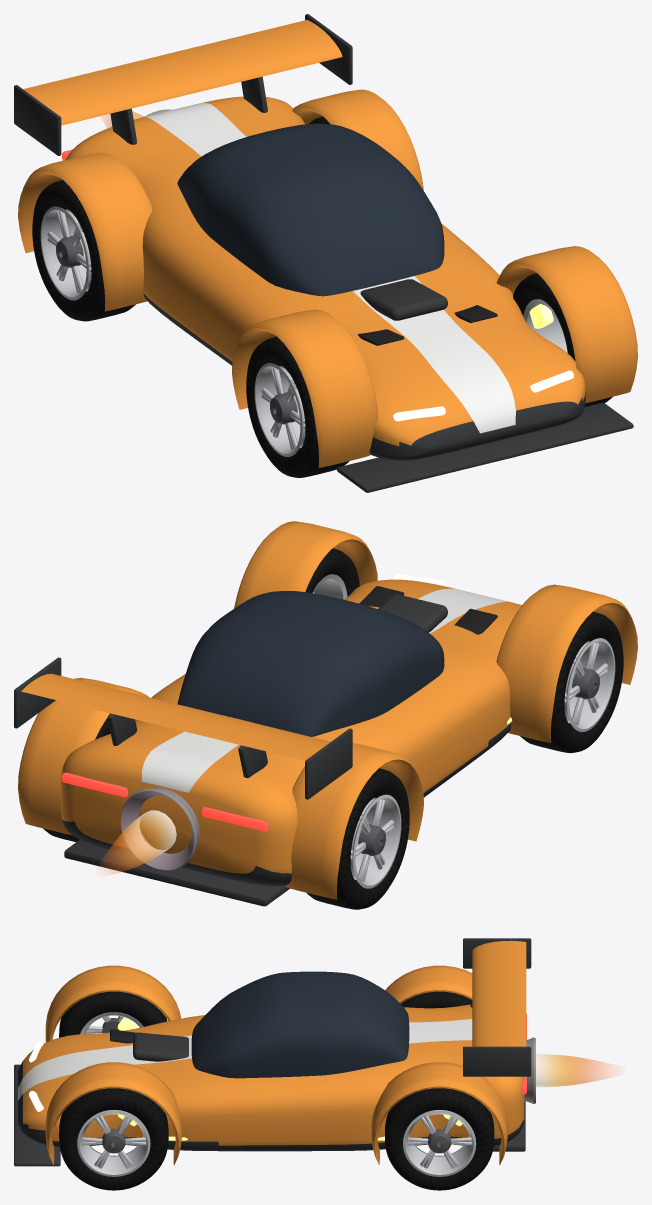
The model's file is rocket-car.glb.
3 views of the same model, one above another, from view 1: azimuth 30°, elevation 25°; view 2: azimuth 150°, elevation 25°; view 3: azimuth 270°, elevation 25° (orthographic). The views are drawn at different scales.
Parts seen in each view (by area): view 1: chassis, wheel_rear_right, wheel_front_right, wheel_front_left; view 2: chassis, wheel_rear_right, wheel_front_right, booster_flame, booster_nozzle, wheel_front_left; view 3: chassis, wheel_front_left, wheel_rear_left, wheel_front_right, booster_flame, wheel_rear_right, booster_nozzle.
Boxes of the visible parts, bbox=[...] form: chassis: bbox=[14, 14, 637, 492]; wheel_rear_right: bbox=[32, 180, 135, 321]; wheel_front_right: bbox=[246, 336, 349, 477]; wheel_front_left: bbox=[513, 273, 612, 406]; chassis: bbox=[14, 521, 637, 906]; wheel_rear_right: bbox=[306, 768, 409, 909]; wheel_front_right: bbox=[520, 611, 623, 753]; booster_flame: bbox=[100, 810, 176, 874]; booster_nozzle: bbox=[121, 788, 199, 870]; wheel_front_left: bbox=[305, 548, 359, 599]; chassis: bbox=[14, 938, 531, 1166]; wheel_front_left: bbox=[59, 1088, 168, 1190]; wheel_rear_left: bbox=[385, 1088, 494, 1190]; wheel_front_right: bbox=[59, 991, 167, 1037]; booster_flame: bbox=[536, 1054, 614, 1087]; wheel_rear_right: bbox=[401, 991, 471, 1008]; booster_nozzle: bbox=[524, 1037, 535, 1103].
Size of the model in its own units: 2.07 by 1.18 by 4.56.
Materials: 15 (2 with a texture image).
